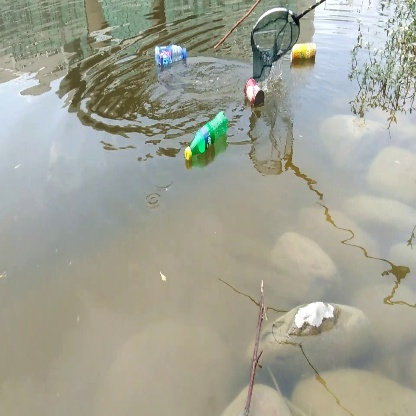bottle: (183, 112, 231, 164), (153, 42, 190, 68), (243, 76, 267, 112), (288, 41, 320, 65)
